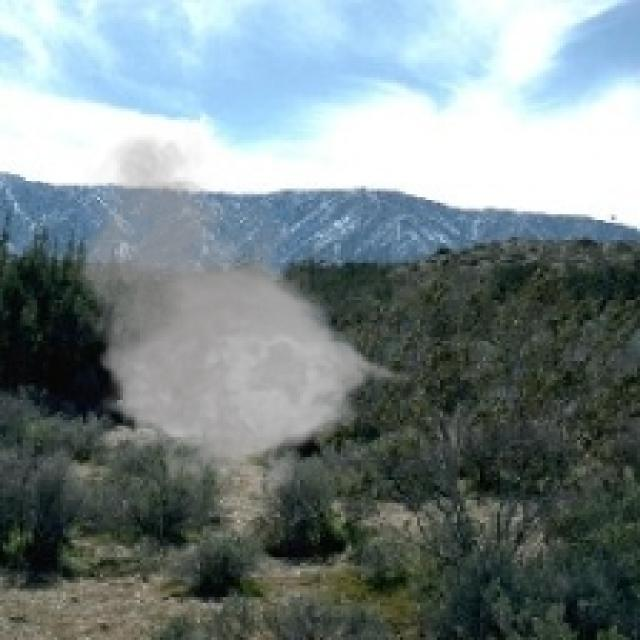smoke: (63, 128, 417, 506)
